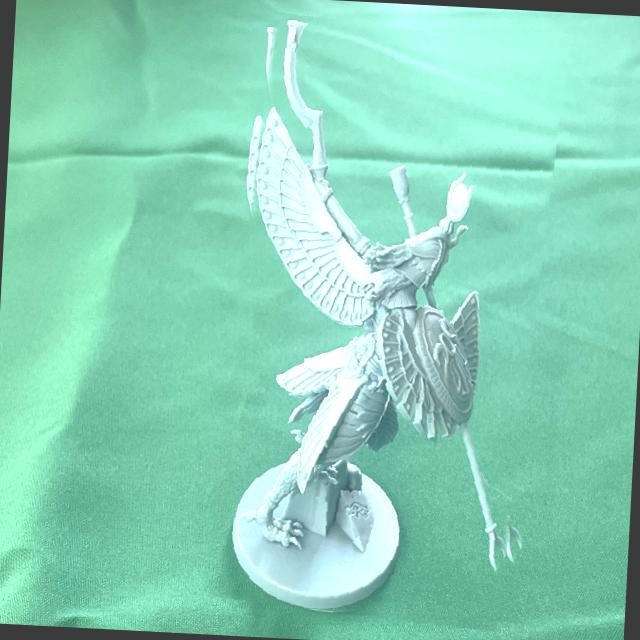isis: (212, 16, 560, 628)
